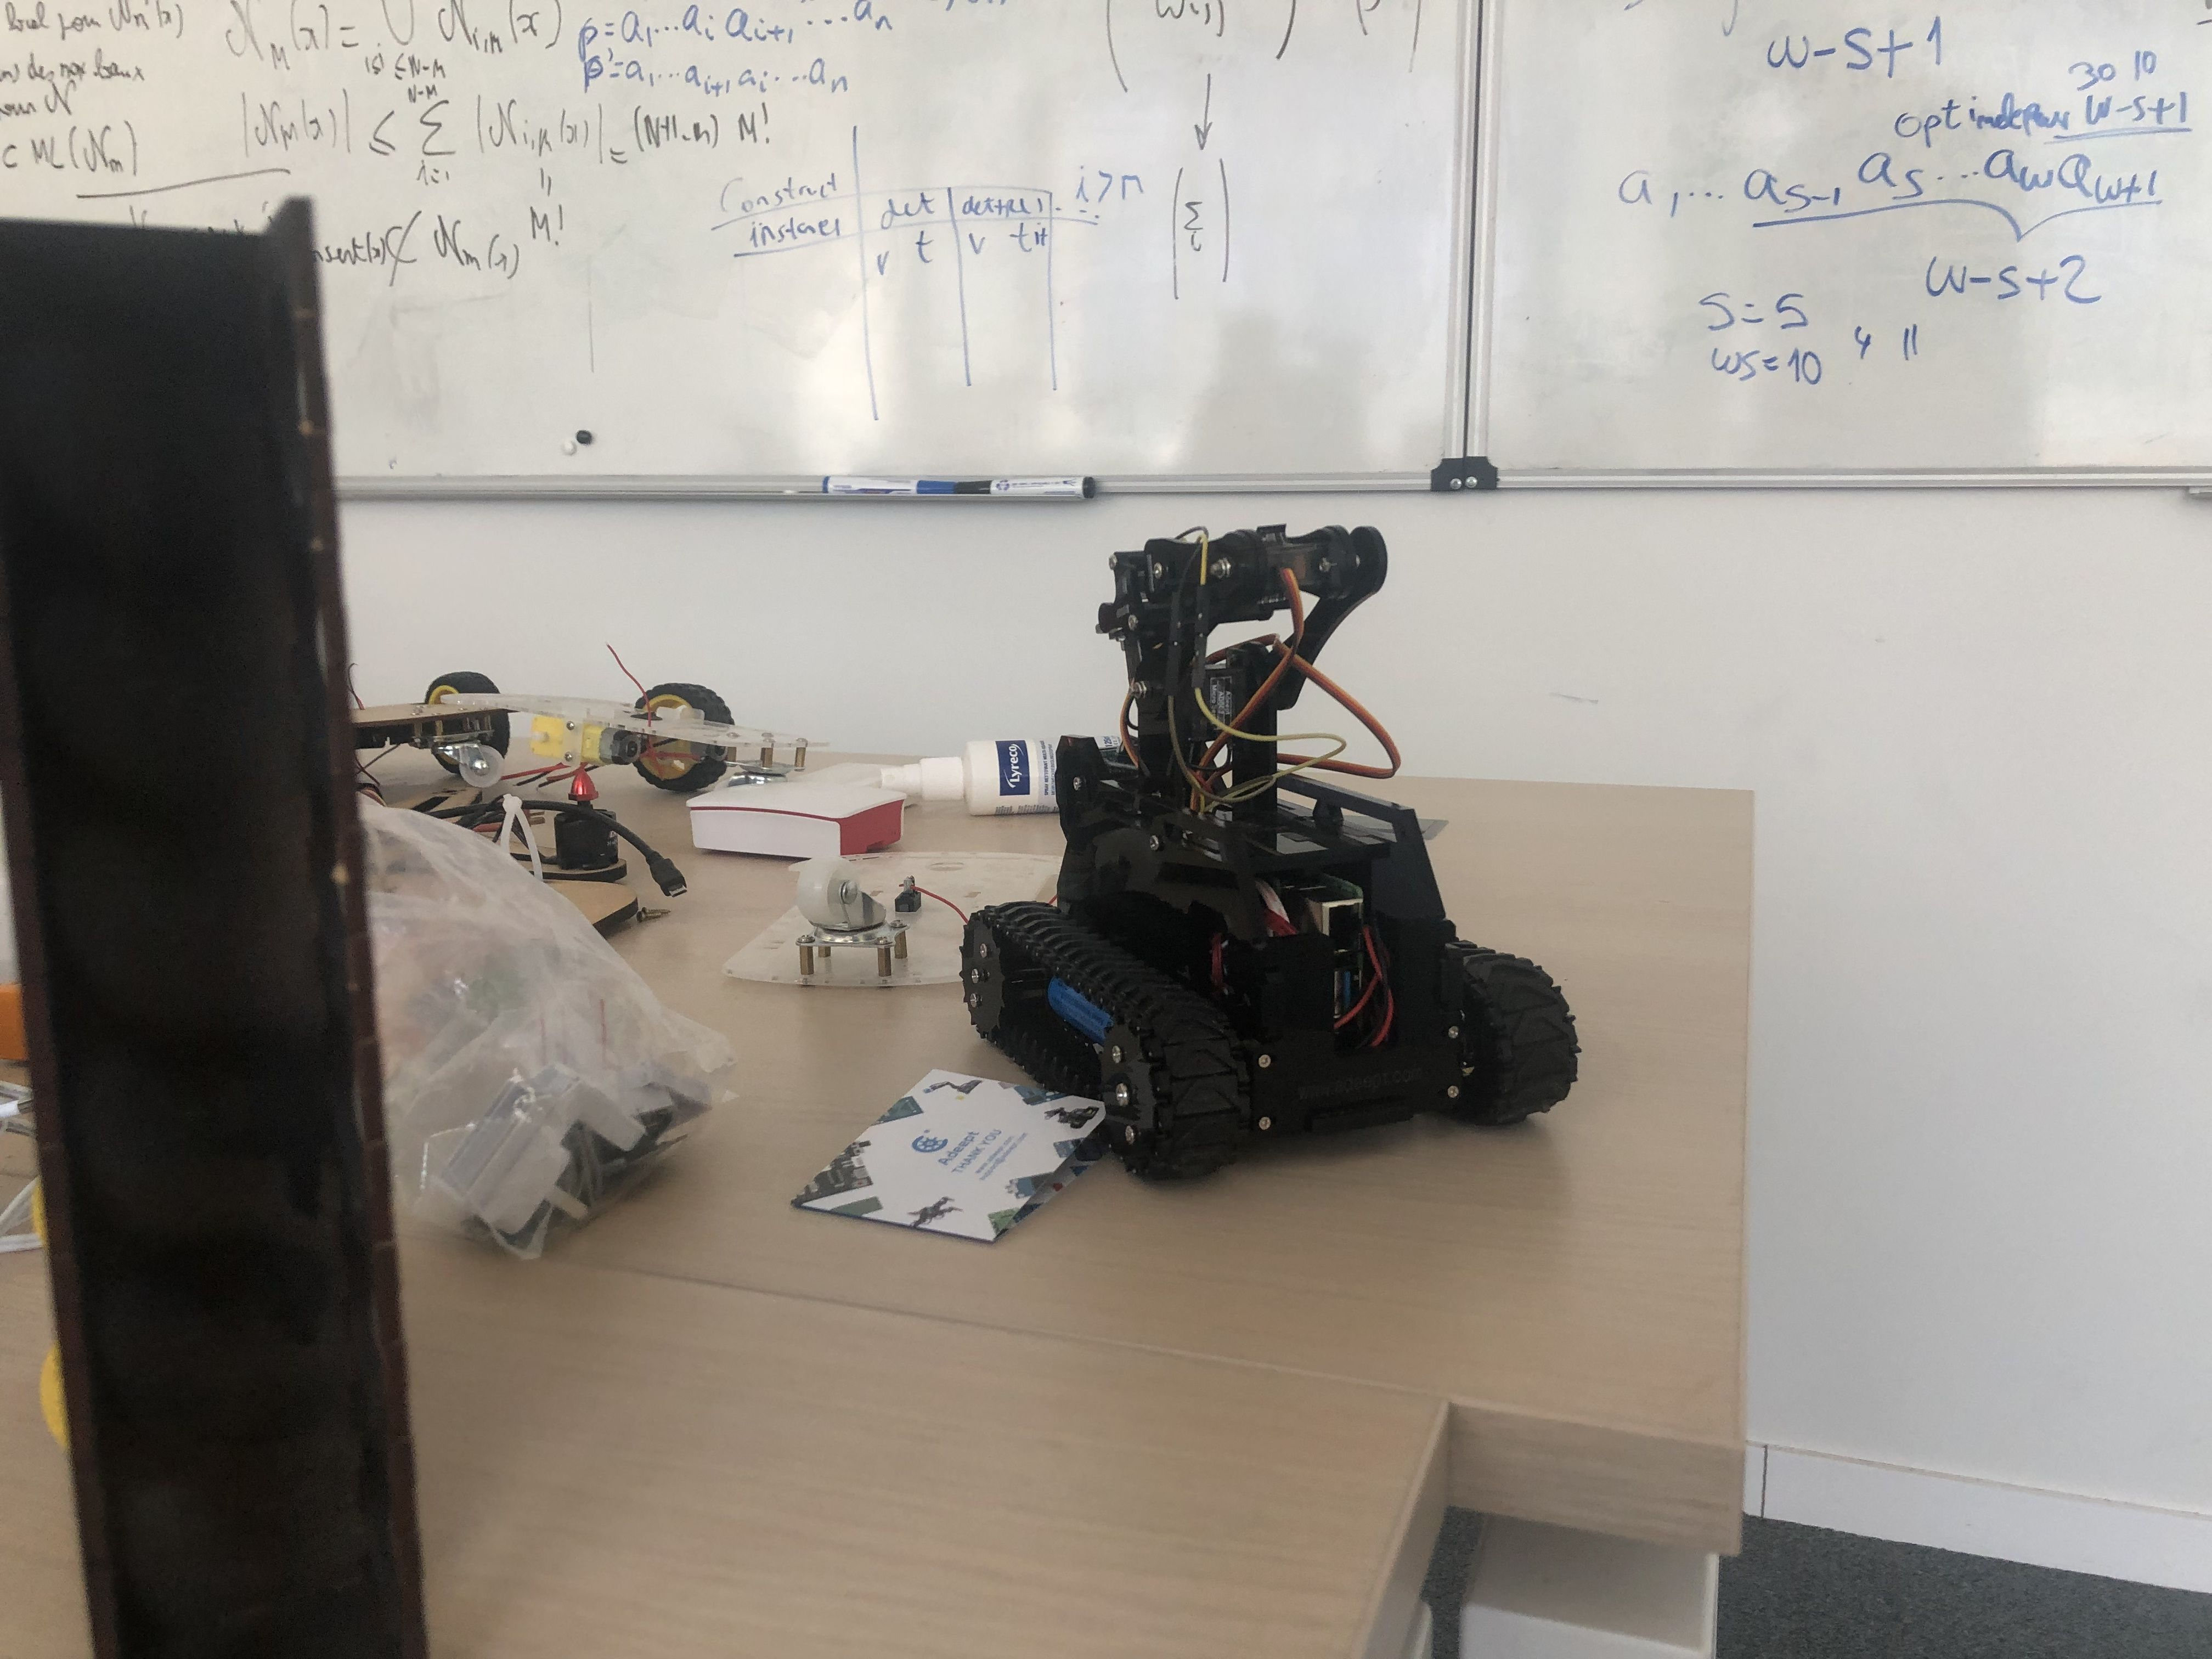rasptank: (951, 519, 1595, 1194)
